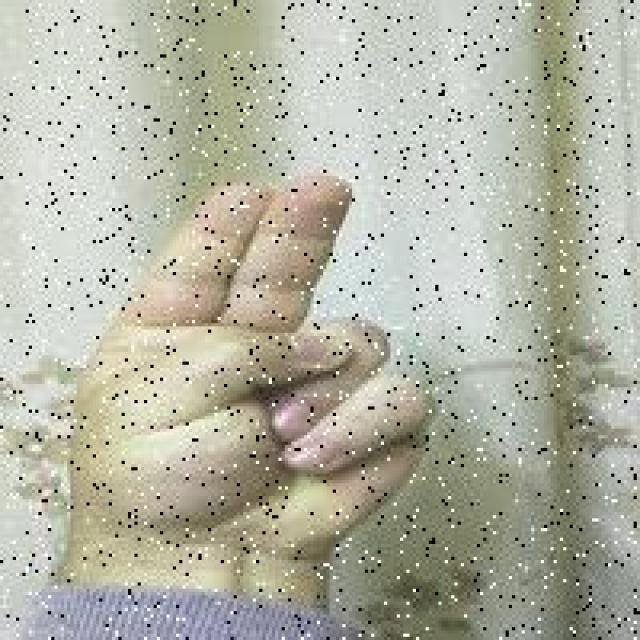U: (58, 166, 442, 573)
